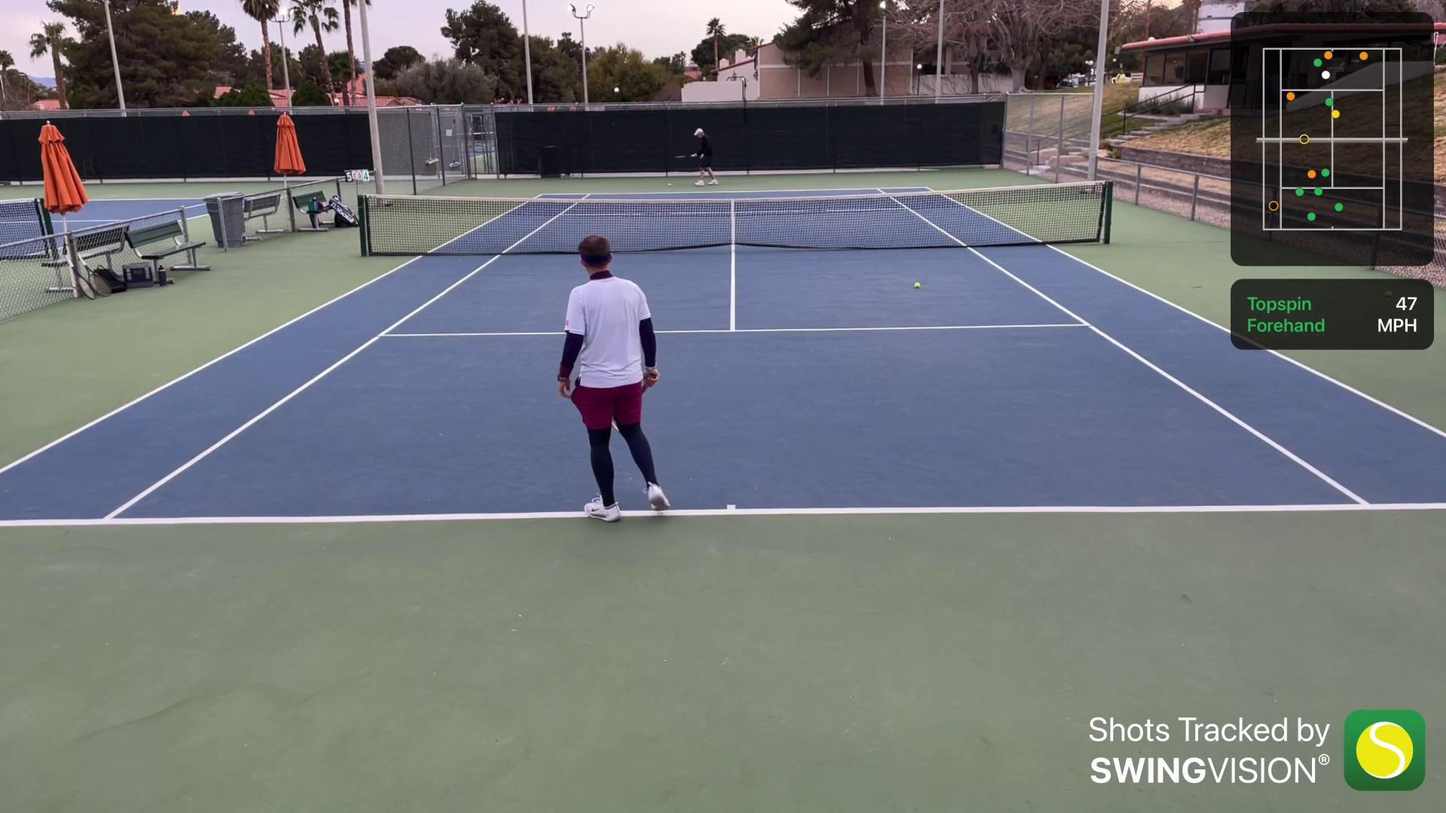ball: (911, 281, 924, 292), (667, 181, 673, 189)
